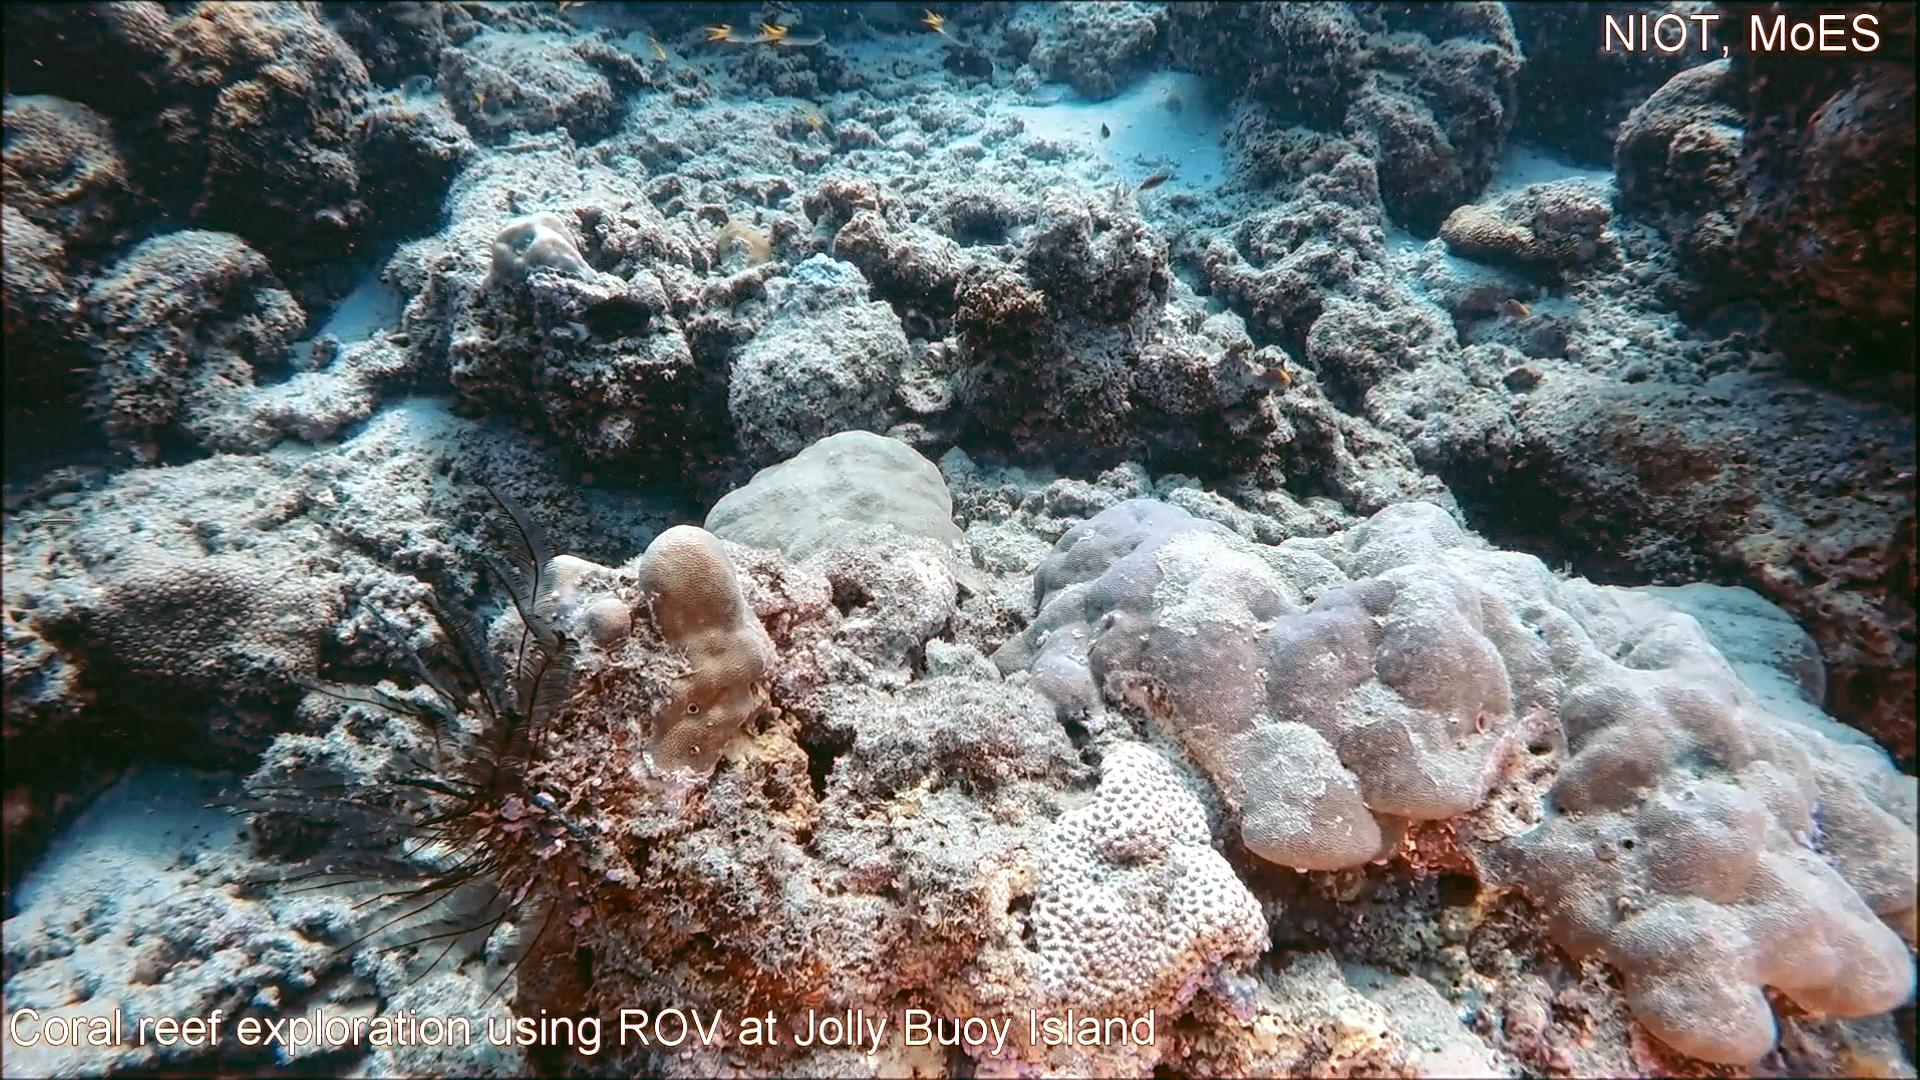Feather star-Crinoid star: (229, 472, 629, 1080)
Goniastrea-Goniastrea pectinata: (1021, 735, 1288, 1056)
Porites-Porites pukoensis: (1370, 496, 1920, 1080)
Turbinaria-Turbinaria stellulata: (55, 558, 359, 712)
